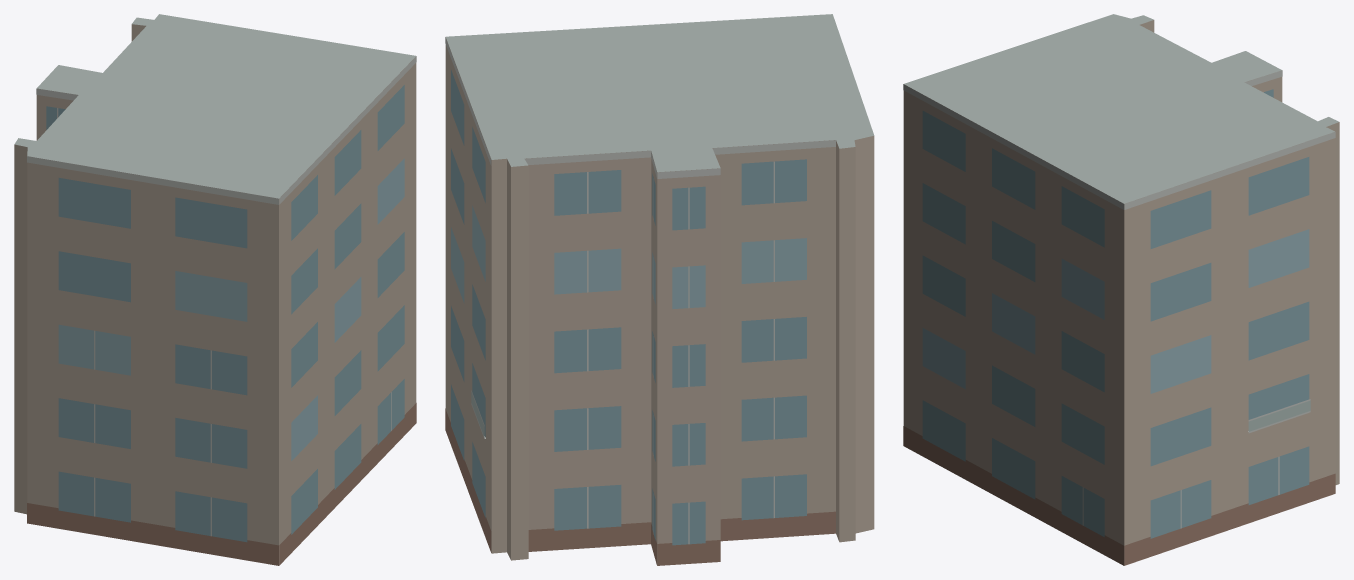
The model's file is survey-upis-33028933.glb.
The picture shows the model from 3 angles, left to right: view 1: azimuth 30°, elevation 25°; view 2: azimuth 150°, elevation 25°; view 3: azimuth 270°, elevation 25°; orthographic projection. The views are drawn at different scales.
Visible parts, largest first — view 1: survey-upis-33028933.tmp; view 2: survey-upis-33028933.tmp; view 3: survey-upis-33028933.tmp.
Part boxes in pixels (x1,y1,x2,y2): survey-upis-33028933.tmp: (14,14,416,565); survey-upis-33028933.tmp: (445,14,874,565); survey-upis-33028933.tmp: (903,14,1339,565).
Size of the model in its own units: 15.75 by 14 by 15.29.
